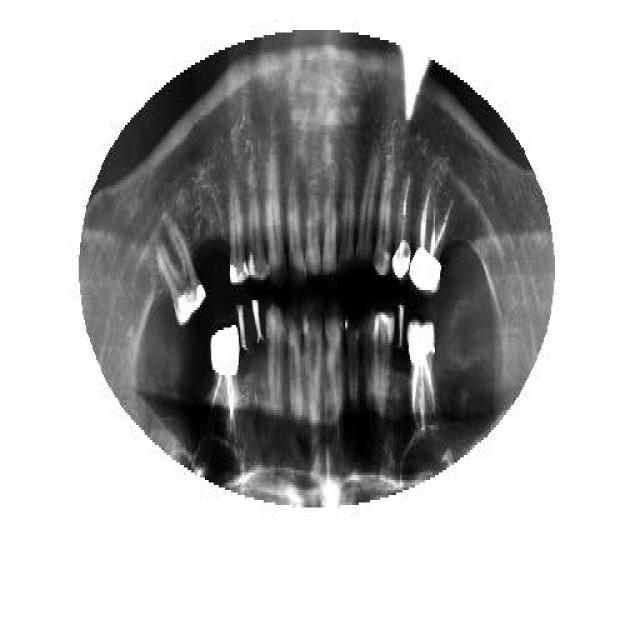Fillings: (154, 220, 205, 328), (228, 180, 248, 285)
Implant: (412, 175, 452, 297), (207, 323, 245, 445), (408, 318, 437, 428), (388, 165, 412, 283)
